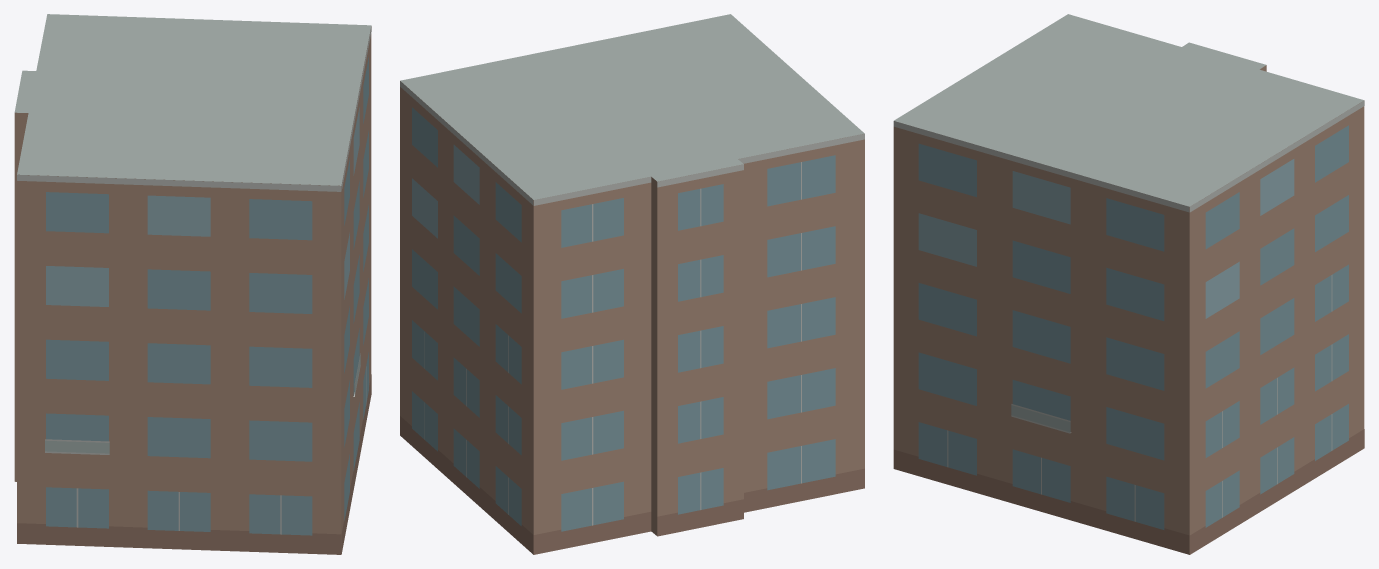
The model's file is survey-upis-32887060.glb.
3 renders of one model, left to right at view 1: azimuth 30°, elevation 25°; view 2: azimuth 150°, elevation 25°; view 3: azimuth 270°, elevation 25°, orthographic. The views are drawn at different scales.
Visible parts, largest first — view 1: survey-upis-32887060.tmp; view 2: survey-upis-32887060.tmp; view 3: survey-upis-32887060.tmp.
Boxes of the visible parts, left/top/right/bottom form: survey-upis-32887060.tmp: left=14, top=14, right=371, bottom=554; survey-upis-32887060.tmp: left=400, top=14, right=864, bottom=554; survey-upis-32887060.tmp: left=893, top=14, right=1364, bottom=554.
Size of the model in its own units: 17.47 by 14.7 by 18.03.
